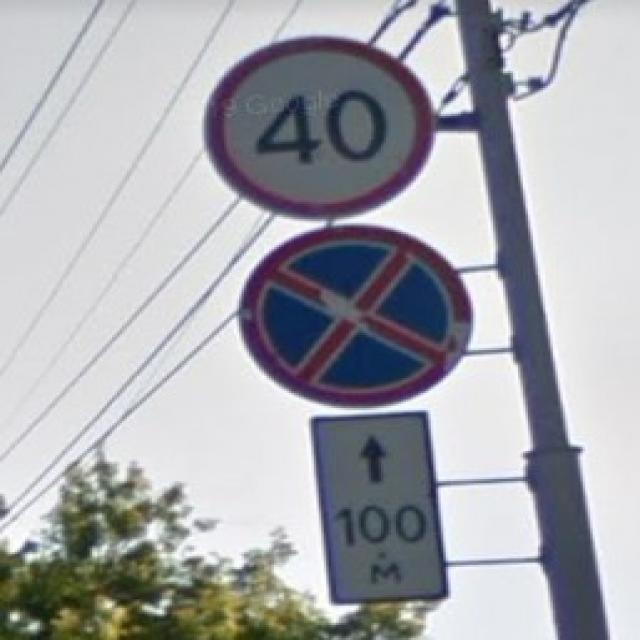Ograniczenie predkosci do 40: (204, 34, 438, 219)
